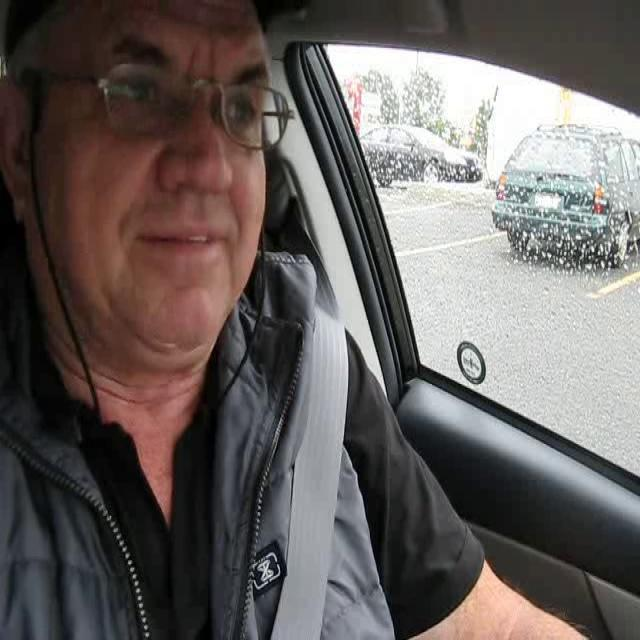close: (130, 217, 230, 269)
